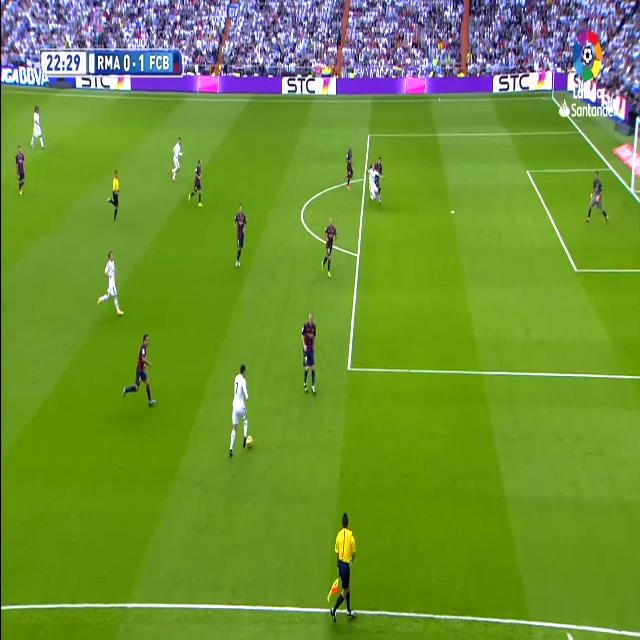bigarea_bottom_inner: (571, 256, 581, 282)
bigarea_top_inner: (524, 164, 531, 179)
corner: (547, 92, 555, 102)
smallarea_top_outter: (608, 160, 614, 174)
